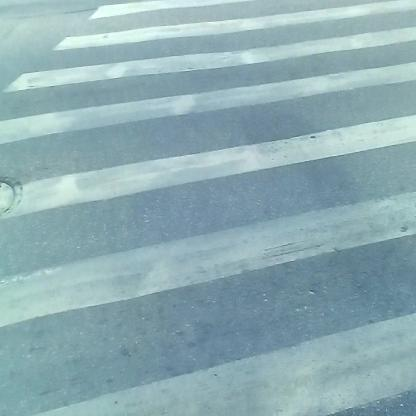crosswalk: (15, 13, 415, 415)
